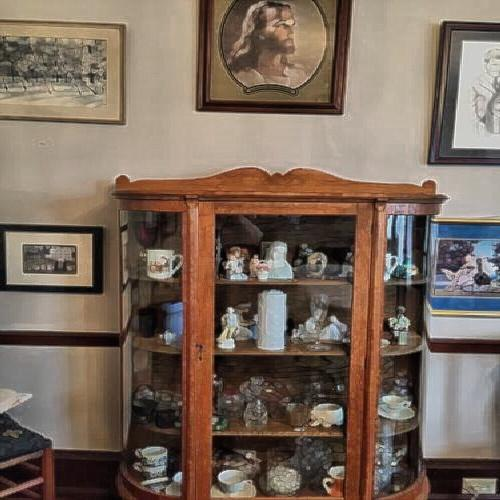cabinet: (118, 158, 432, 490)
